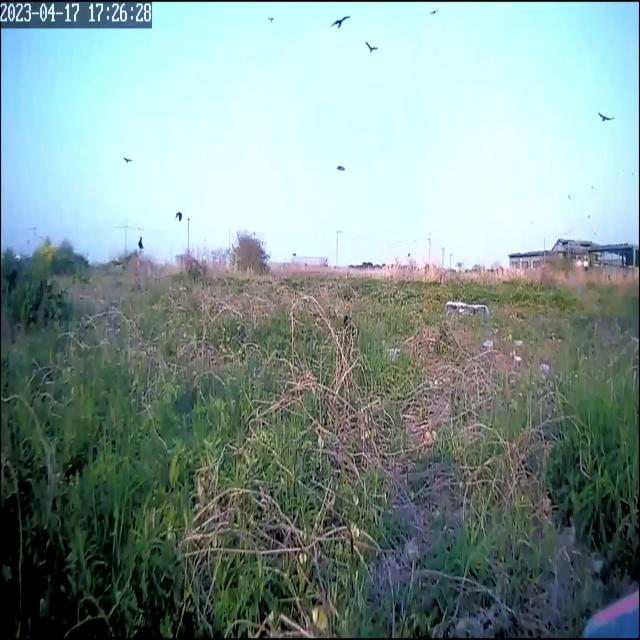bird: (330, 4, 352, 44), (596, 99, 615, 133), (363, 29, 379, 65), (336, 156, 346, 180), (122, 148, 132, 171), (175, 204, 183, 228), (267, 9, 275, 31)
